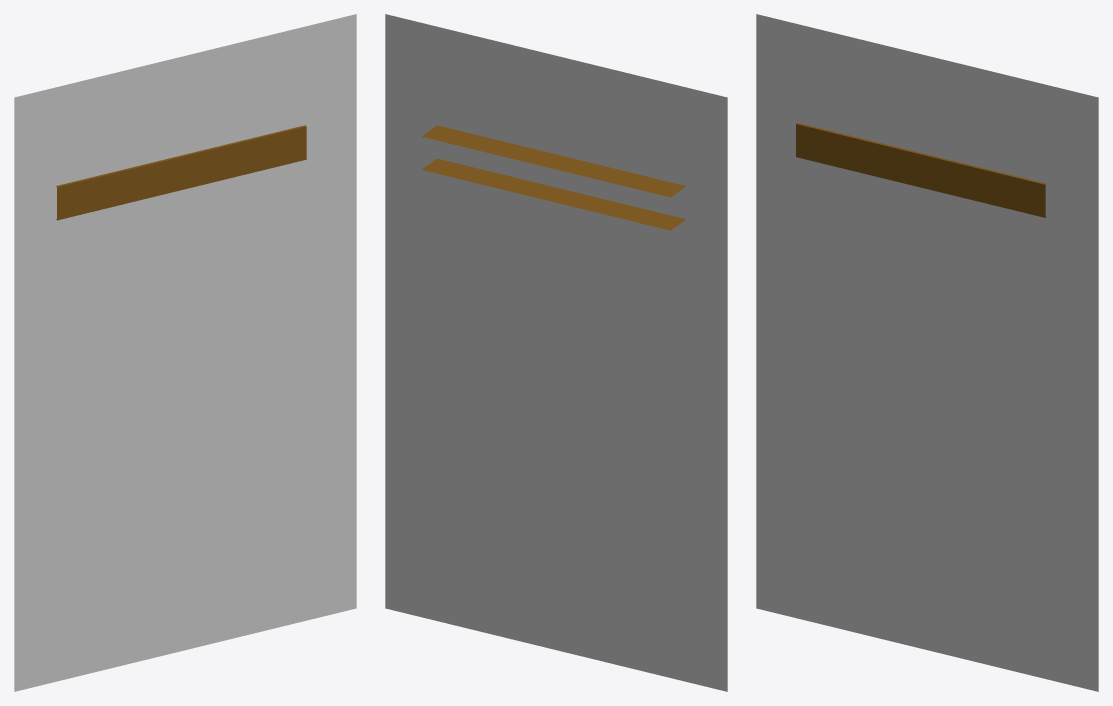
File: top_glass.fbx
3 renders of one model, left to right at view 1: azimuth 30°, elevation 25°; view 2: azimuth 150°, elevation 25°; view 3: azimuth 330°, elevation 25°, orthographic.
Visible parts, largest first — view 1: Plane.002, Cube.005; view 2: Plane.002, Cube.005; view 3: Plane.002, Cube.005.
Part boxes in pixels (x1,y1,x2,y2): Plane.002: (14,14,356,691); Cube.005: (56,125,306,220); Plane.002: (385,14,727,691); Cube.005: (421,125,685,230); Plane.002: (756,14,1098,691); Cube.005: (796,123,1046,217).
Bounding box in the file's own units: 37.83 × 62.76 × 3.28.
